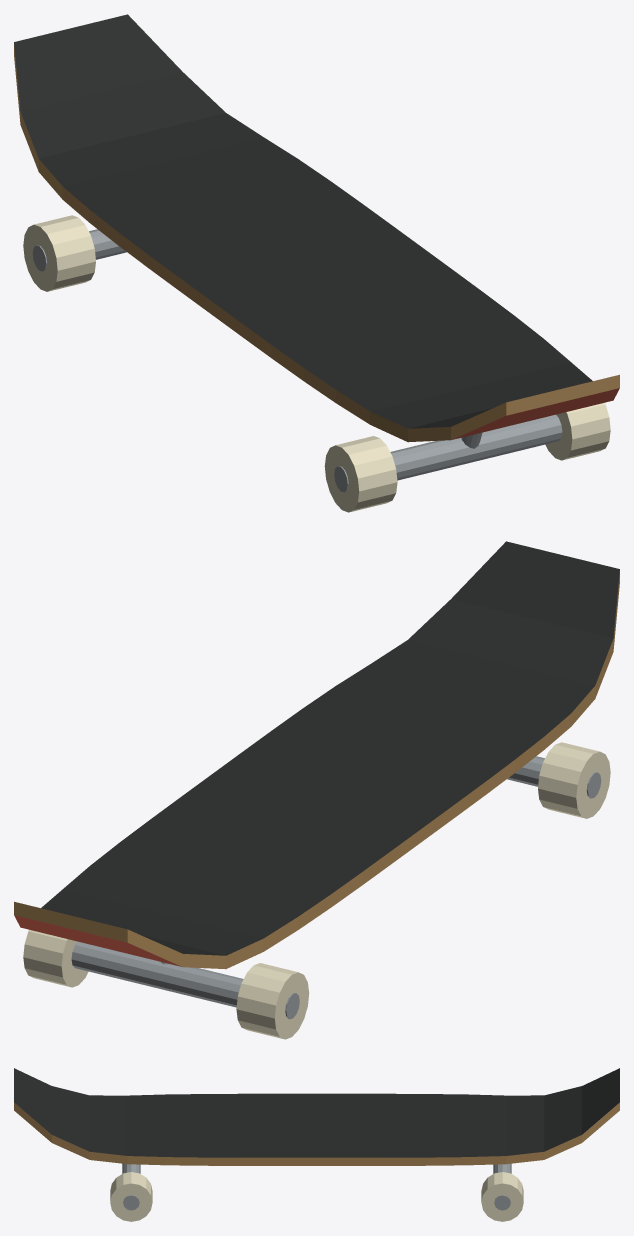
Rendered from skateboard.glb.
3 renders of one model, top to bottom at view 1: azimuth 30°, elevation 25°; view 2: azimuth 150°, elevation 25°; view 3: azimuth 270°, elevation 25°, orthographic. The views are drawn at different scales.
Visible parts, largest first — view 1: Skateboard deck, Truck hanger, Wheel.002, Wheel, Wheel.001; view 2: Skateboard deck, Truck hanger.001, Wheel, Wheel.002, Wheel.003; view 3: Skateboard deck, Wheel.001, Wheel.003.
Boxes of the visible parts, bbox=[...] form: Skateboard deck: bbox=[14, 14, 619, 442]; Truck hanger: bbox=[390, 414, 562, 480]; Wheel.002: bbox=[23, 215, 95, 291]; Wheel: bbox=[324, 436, 397, 512]; Wheel.001: bbox=[545, 402, 610, 460]; Skateboard deck: bbox=[14, 541, 619, 969]; Truck hanger.001: bbox=[71, 941, 243, 1007]; Wheel: bbox=[538, 742, 610, 818]; Wheel.002: bbox=[236, 963, 309, 1039]; Wheel.003: bbox=[23, 929, 88, 987]; Skateboard deck: bbox=[14, 1068, 619, 1165]; Wheel.001: bbox=[110, 1172, 152, 1221]; Wheel.003: bbox=[481, 1172, 523, 1221].
Bounding box in the file's own units: 0.238 × 0.1442 × 0.8.
